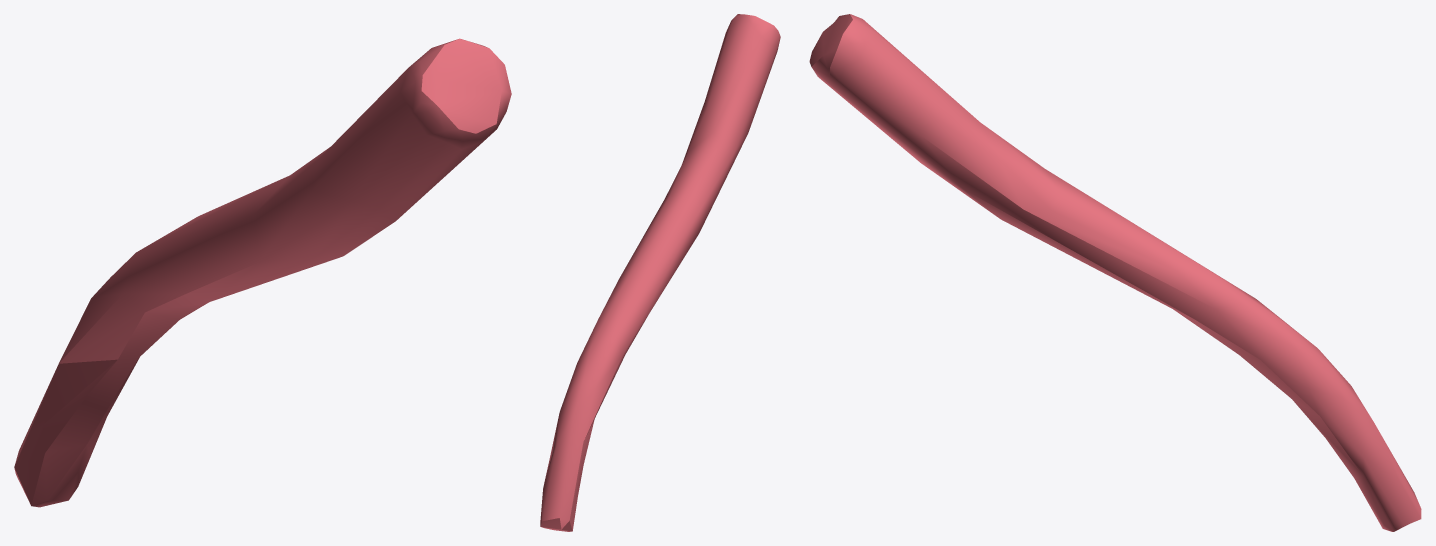
The model's file is fma18887_fj3570.glb.
3 views of the same model, side by side, from view 1: azimuth 30°, elevation 25°; view 2: azimuth 150°, elevation 25°; view 3: azimuth 270°, elevation 25° (orthographic). The views are drawn at different scales.
Parts seen in each view (by area): view 1: FMA18887_FJ3570; view 2: FMA18887_FJ3570; view 3: FMA18887_FJ3570.
Part boxes in pixels (x1=…): FMA18887_FJ3570: x1=14, y1=38, x2=511, y2=507; FMA18887_FJ3570: x1=540, y1=14, x2=780, y2=531; FMA18887_FJ3570: x1=809, y1=14, x2=1421, y2=531.
Size of the model in its own units: 0.00827 by 0.0582 by 0.0627.
